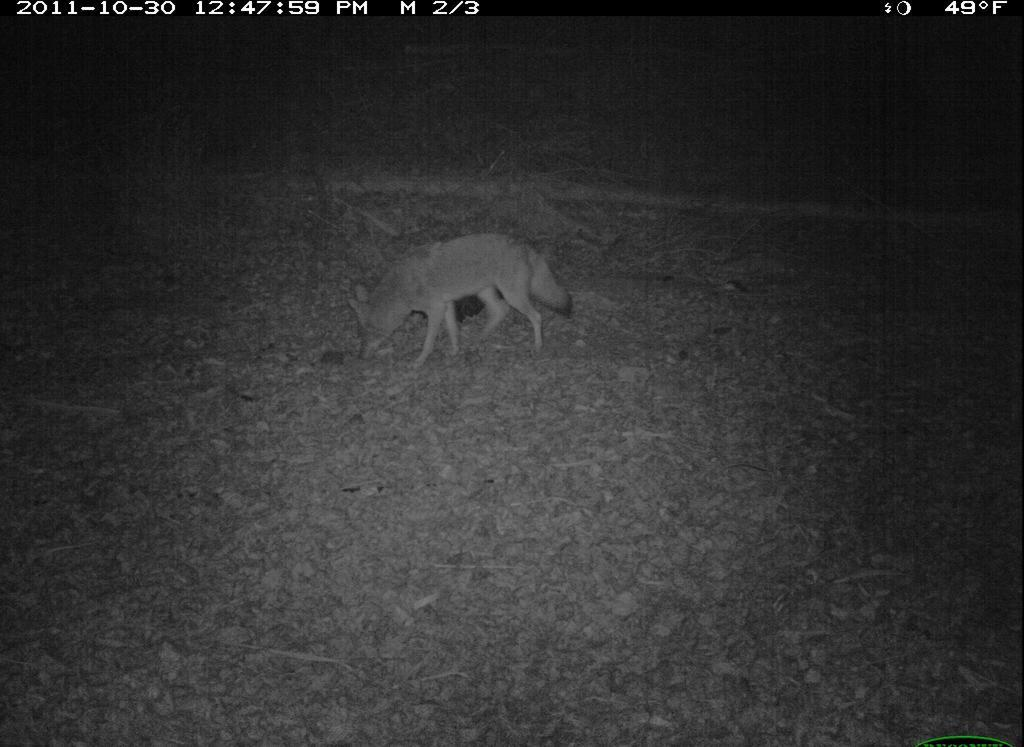coyote: (351, 241, 583, 376)
